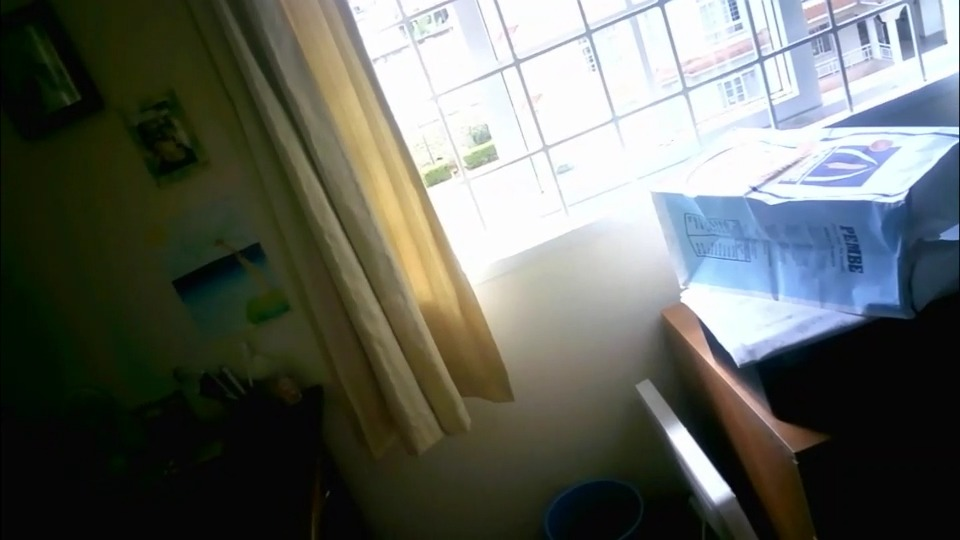wheat_flour_blue_label: (652, 123, 960, 319)
